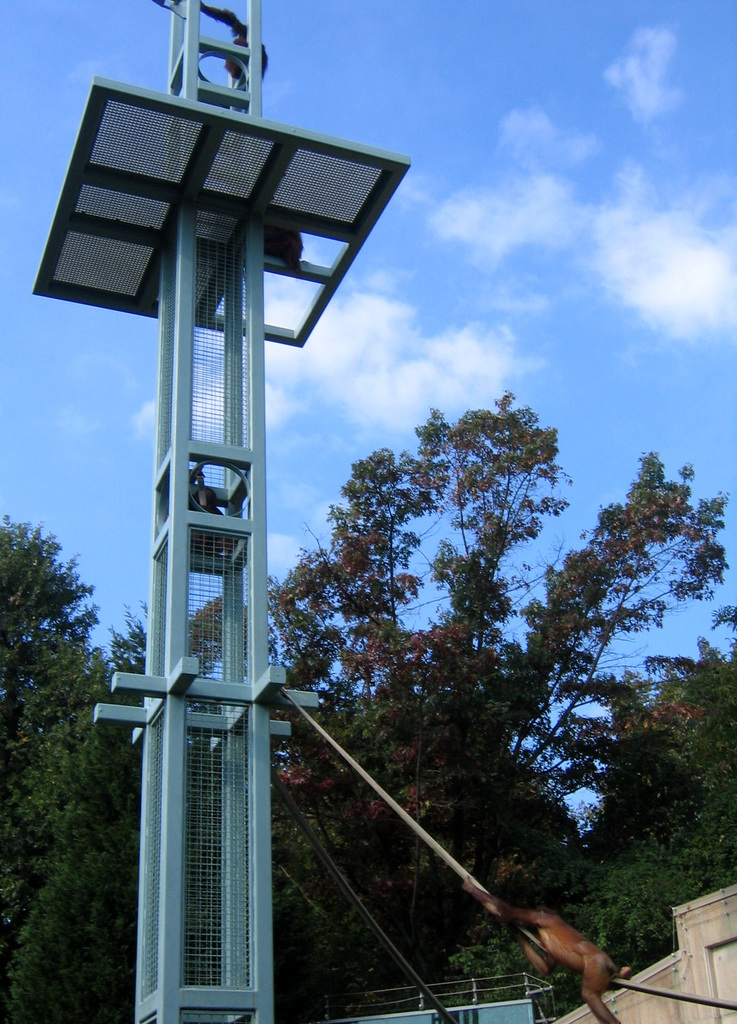Tree: (0, 388, 736, 1024)
